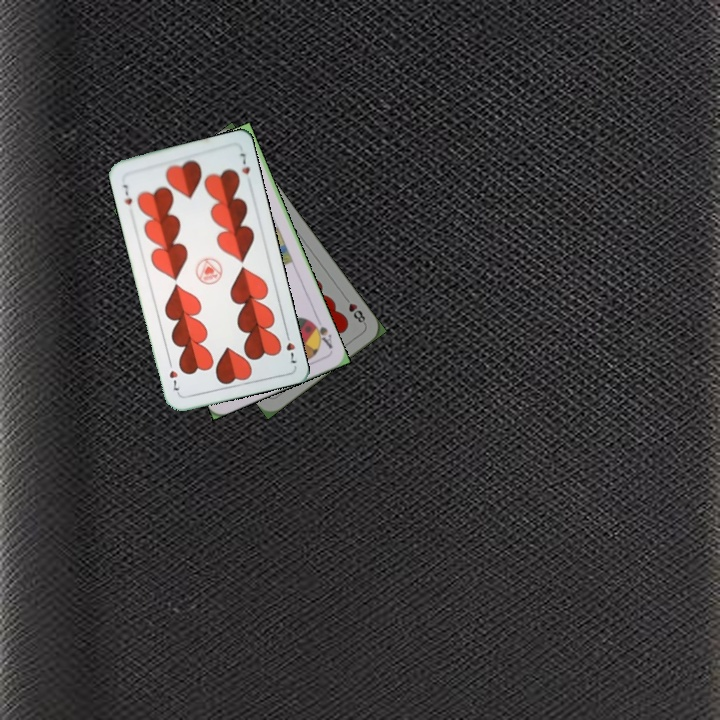H7: (281, 327, 299, 366), (119, 180, 135, 207)
H8: (340, 292, 368, 327)
SA: (307, 317, 335, 351)
